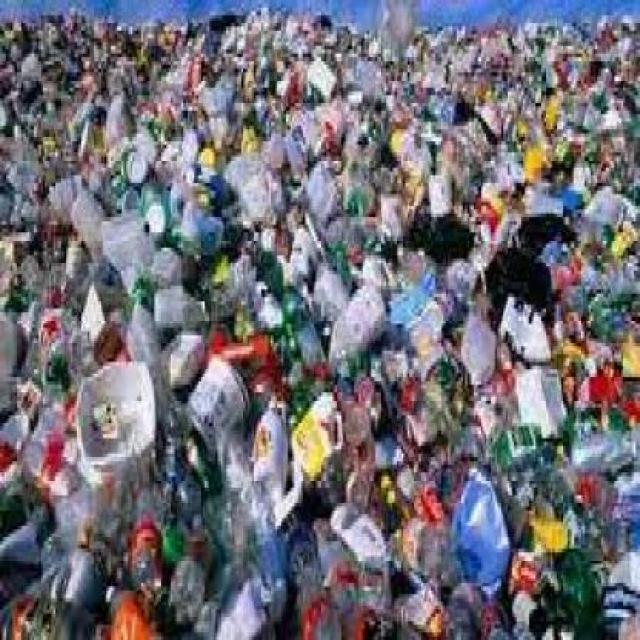garbage: (0, 16, 638, 637)
